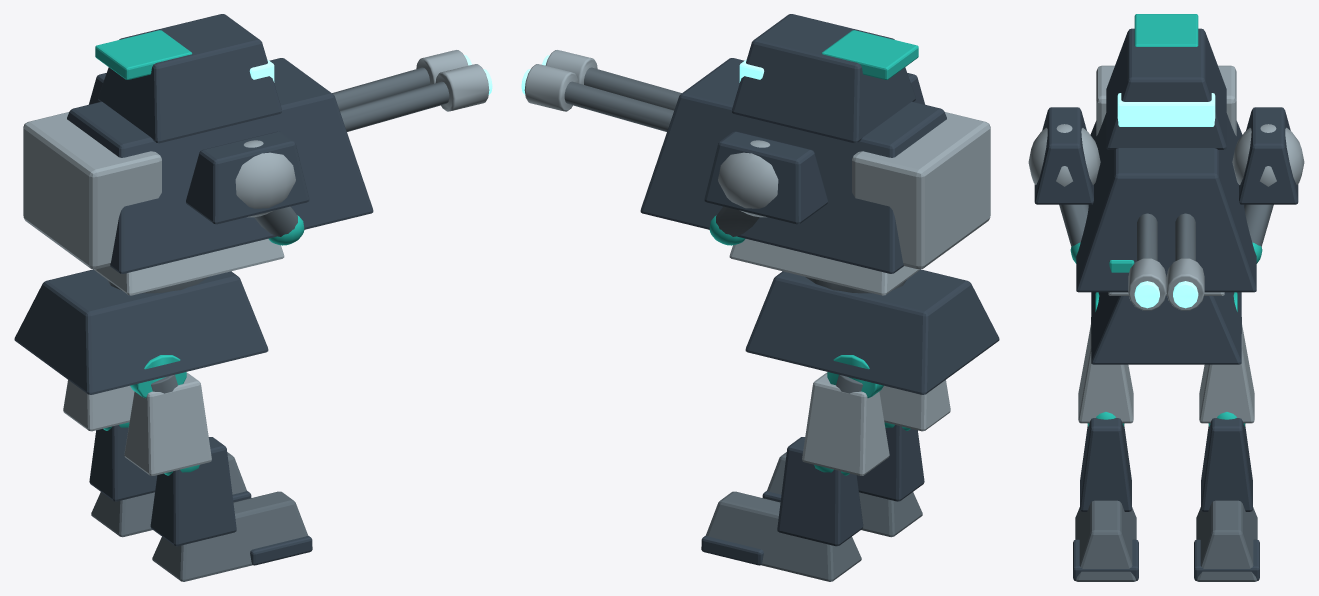
File: SM_Needle.fbx
The picture shows the model from 3 angles, left to right: view 1: azimuth 30°, elevation 25°; view 2: azimuth 150°, elevation 25°; view 3: azimuth 270°, elevation 25°; orthographic projection.
Parts seen in each view (by area): view 1: SM_Needle; view 2: SM_Needle; view 3: SM_Needle.
Part boxes in pixels (x1,y1,x2,y2): SM_Needle: [14, 14, 492, 581]; SM_Needle: [521, 14, 999, 581]; SM_Needle: [1028, 14, 1304, 581].
Bounding box in the file's own units: 42 × 23.81 × 47.
